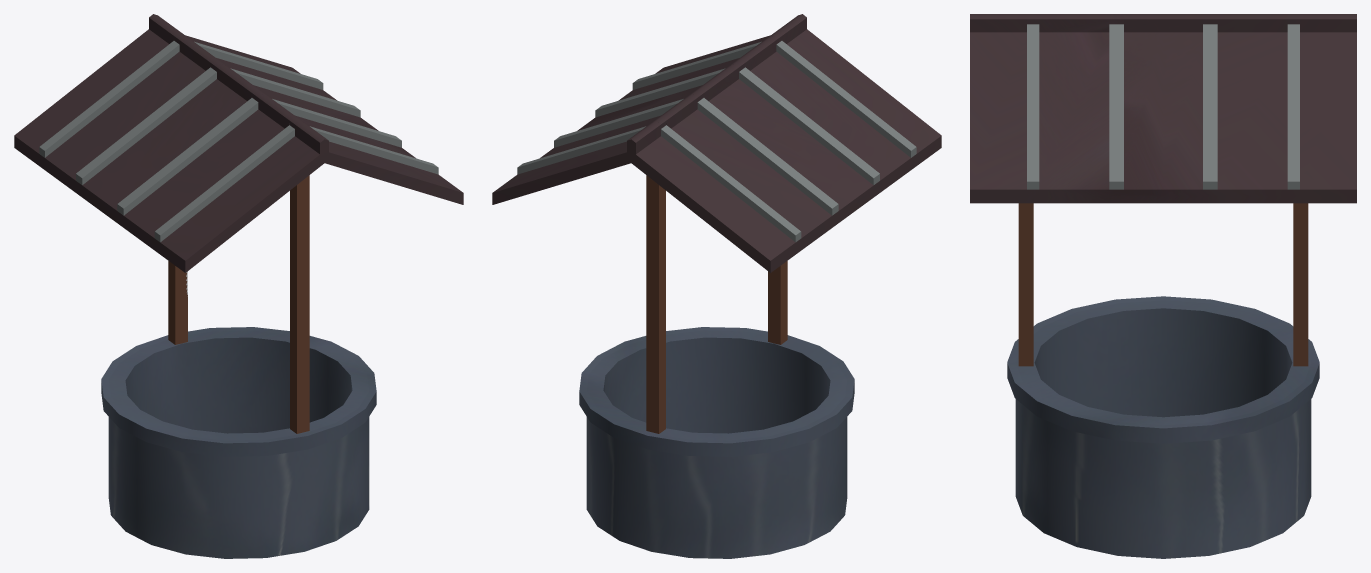
The model's file is Well.fbx.
3 views of the same model, side by side, from view 1: azimuth 30°, elevation 25°; view 2: azimuth 150°, elevation 25°; view 3: azimuth 270°, elevation 25° (orthographic). The views are drawn at different scales.
Parts seen in each view (by area): view 1: pCylinder1, pCube2, pCube1; view 2: pCylinder1, pCube2, pCube1; view 3: pCube2, pCylinder1, pCube1.
Boxes of the visible parts, x1,y1,x2,y2 form: pCylinder1: [101, 327, 376, 558]; pCube2: [14, 14, 463, 272]; pCube1: [168, 175, 309, 433]; pCylinder1: [579, 327, 854, 558]; pCube2: [492, 14, 941, 272]; pCube1: [646, 175, 787, 433]; pCube2: [970, 14, 1356, 203]; pCylinder1: [1007, 296, 1319, 558]; pCube1: [1018, 203, 1308, 366].
Size of the model in its own units: 9.7 by 14.23 by 10.34.
1 material, 1 textured.
